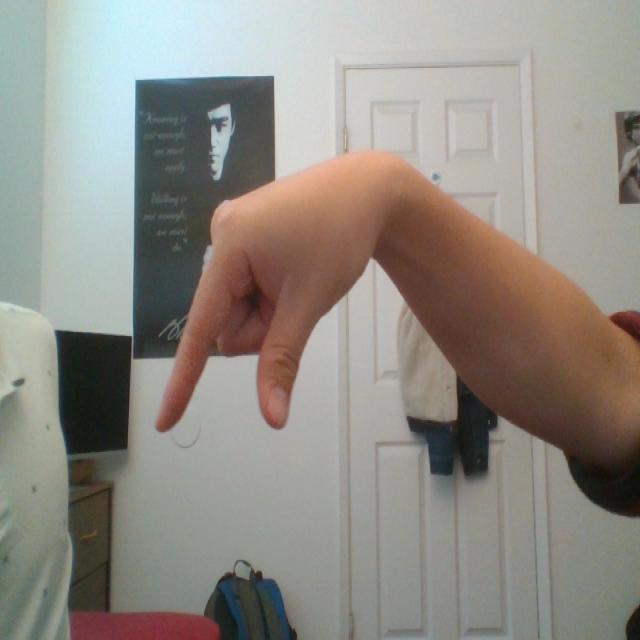Q: (115, 105, 433, 482)
